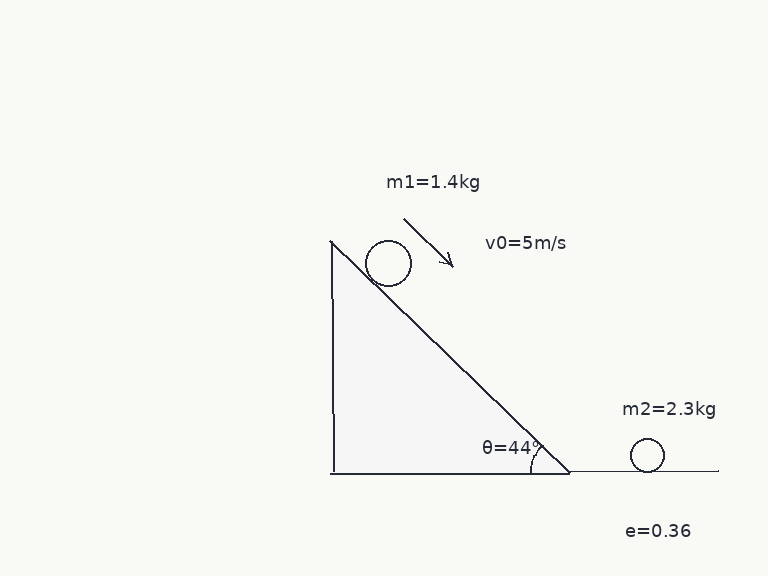ball: (363, 238, 413, 288), (628, 436, 666, 474)
ramp: (329, 238, 573, 474)
